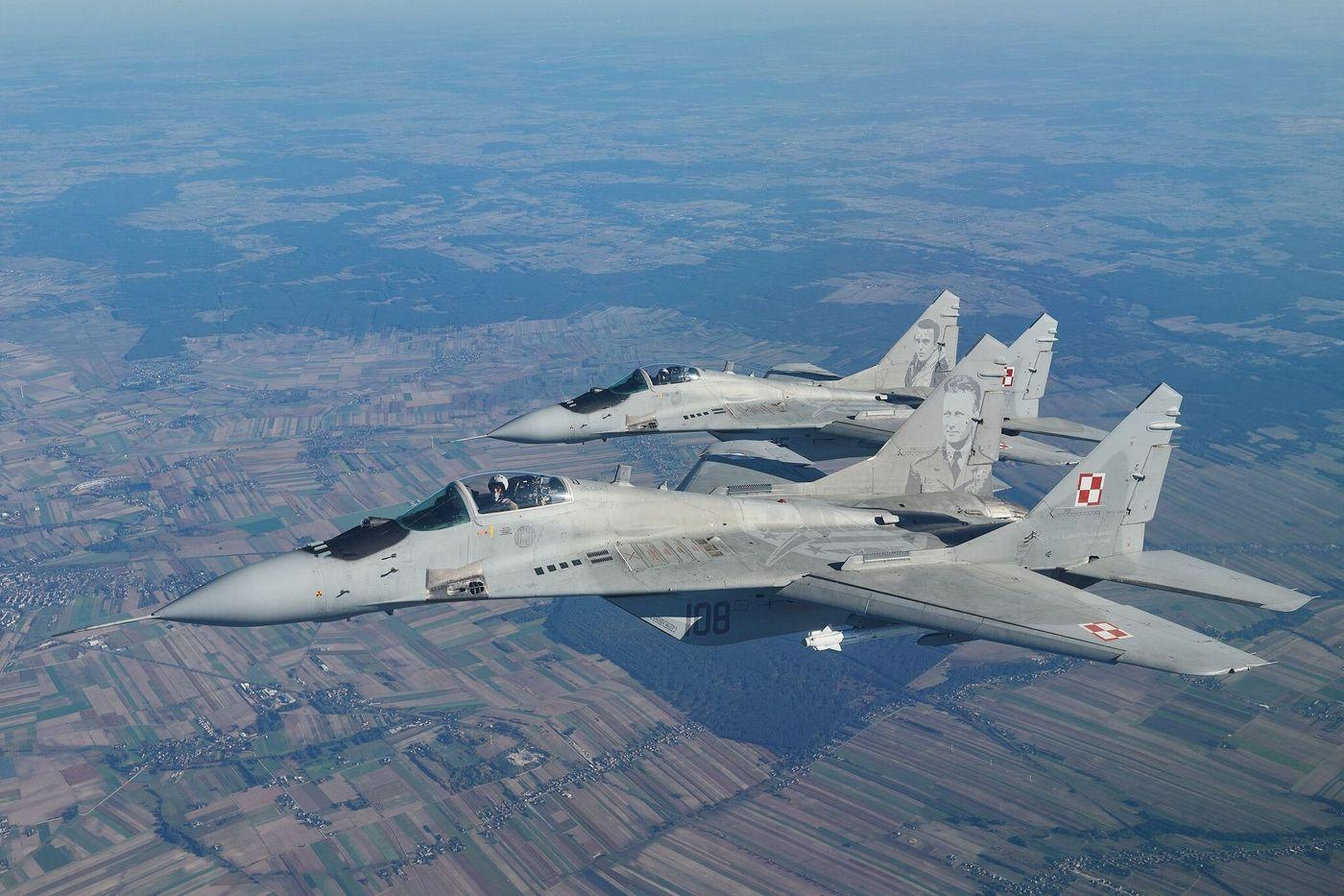aircraft: (44, 291, 1223, 663)
